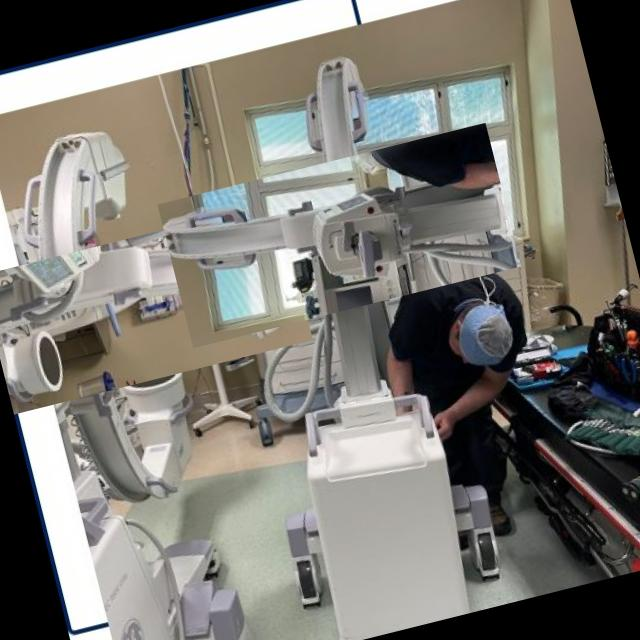C_arm: (193, 89, 488, 384), (1, 156, 269, 474)
